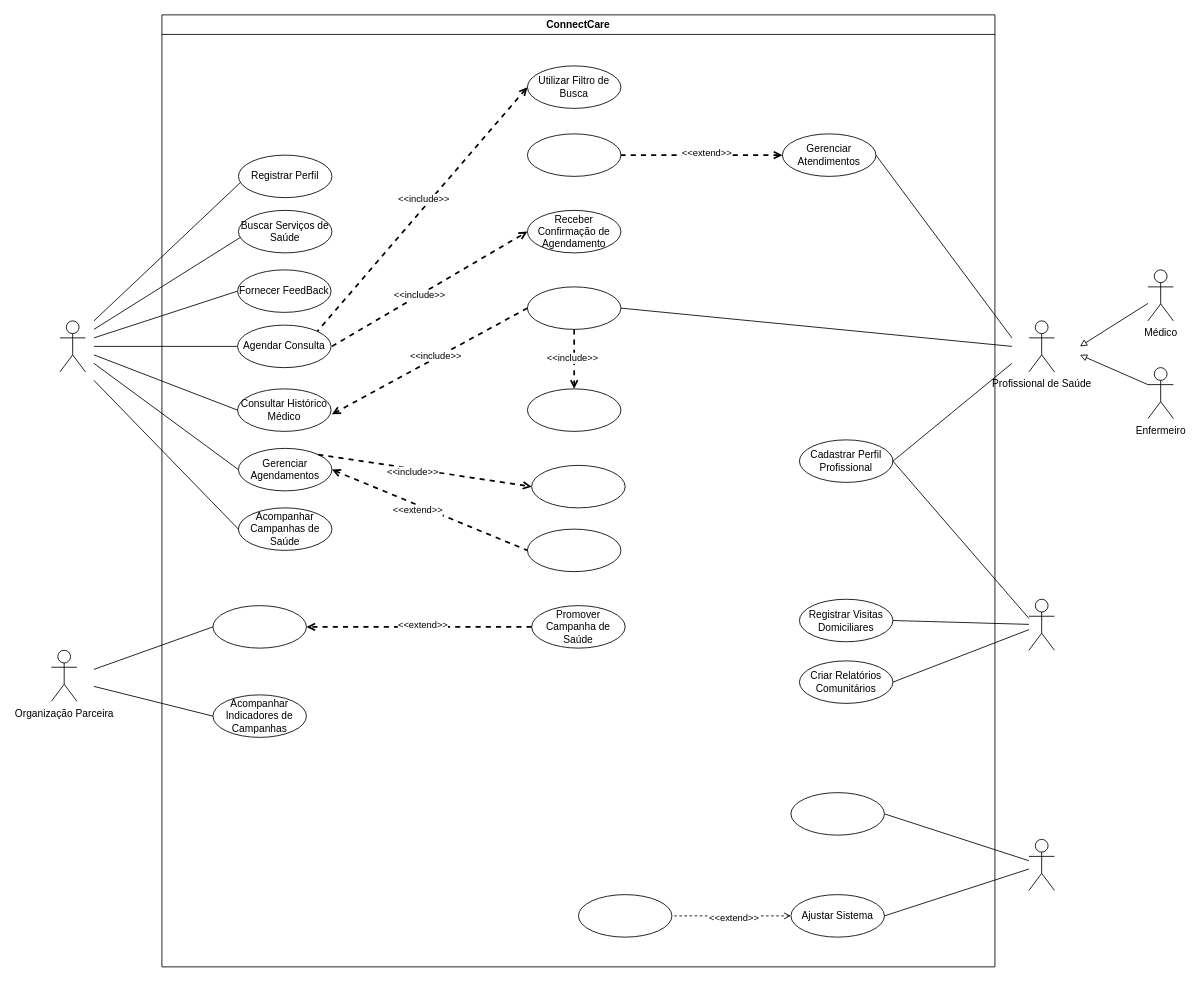
The diagram is 1200 pixels wide and 982 high, and some of its shapes have lost their labels. Each missing label, with the box of its shape:
Adicionar Funcionalidades: (578, 894, 672, 937)
Administrador do Sistema: (1028, 839, 1054, 890)
Agente Comunitário: (1028, 598, 1054, 650)
Atualizar Prontuário: (527, 388, 621, 431)
Cadastrar Campanha de Saúde: (212, 605, 306, 648)
Cadastrar Disponibilidade: (527, 133, 621, 176)
Deletar Agendamento: (527, 528, 621, 572)
Listar Agendamentos: (531, 465, 625, 508)
Monitorar Indicadores de Desempenho: (790, 792, 884, 835)
Paciente: (59, 320, 85, 372)
Realizar Atendimento: (527, 286, 621, 329)
